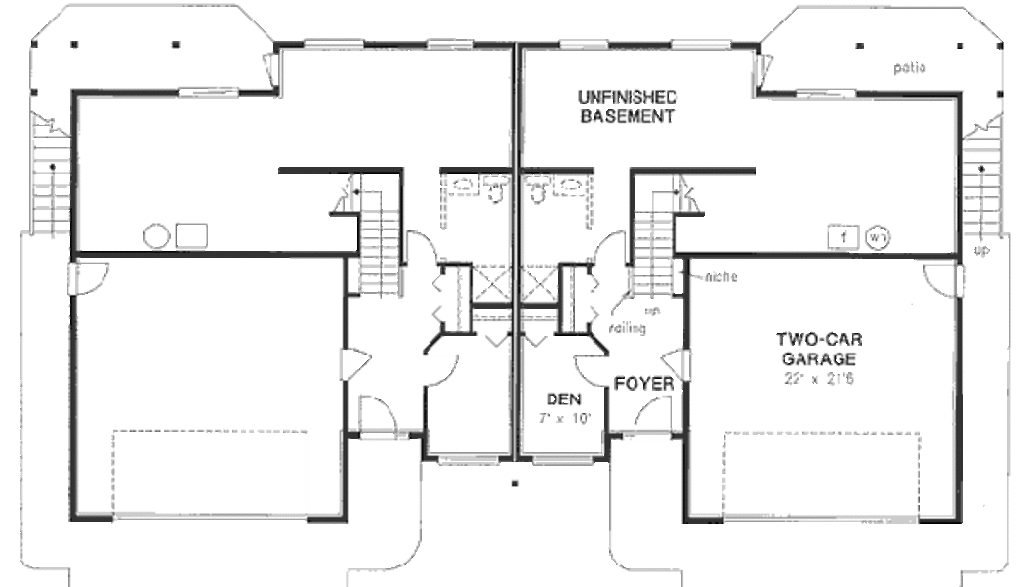door: (916, 257, 980, 301), (62, 256, 118, 298), (630, 395, 679, 439), (354, 393, 398, 441), (407, 227, 449, 271), (591, 224, 632, 269), (417, 352, 462, 390), (575, 355, 613, 389), (337, 346, 374, 379)
large_sink: (520, 172, 553, 210), (480, 174, 511, 206)
small_sink: (445, 170, 484, 203), (556, 172, 587, 199)
stairs: (627, 167, 707, 308), (328, 170, 409, 304), (21, 107, 90, 239), (962, 111, 1005, 242)
window: (792, 85, 858, 101), (304, 37, 367, 52), (671, 39, 737, 51), (181, 87, 241, 100), (425, 40, 479, 52), (549, 41, 613, 51)
